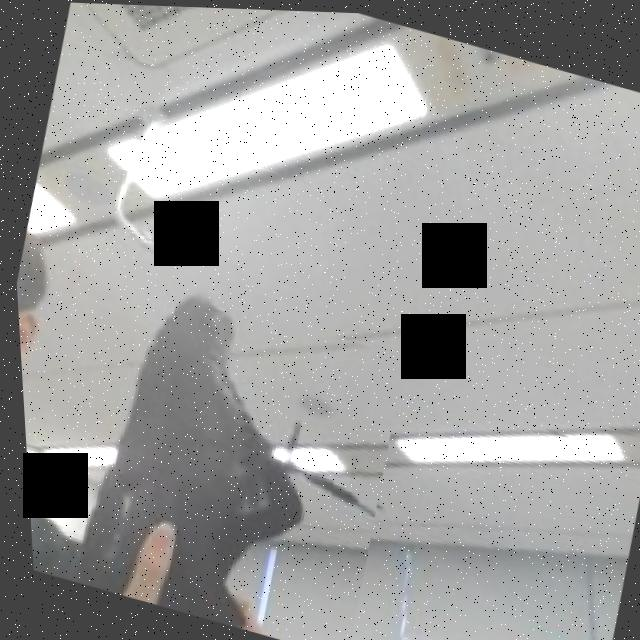shoe: (52, 268, 416, 640)
